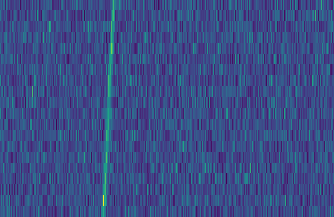signal: (97, 0, 117, 217)
